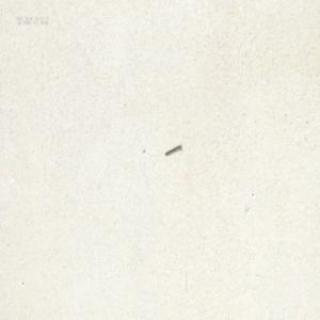Bolttrack_idkeyframe: (163, 142, 180, 154)
